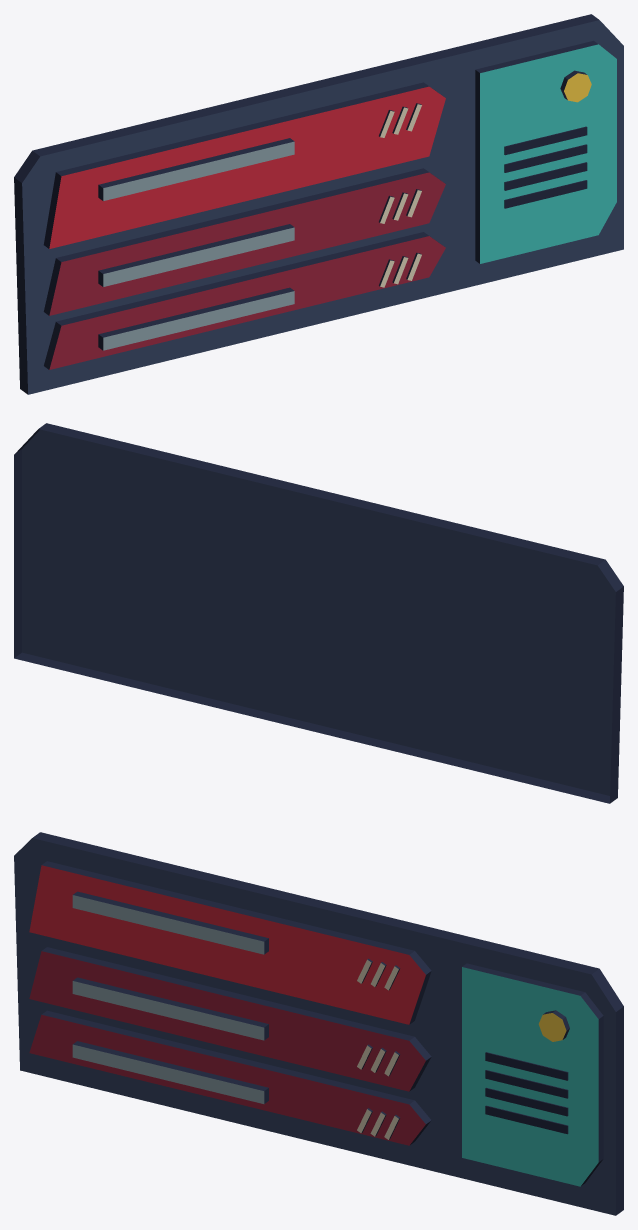
The model's file is ToolDrawers.gltf.
3 renders of one model, top to bottom at view 1: azimuth 30°, elevation 25°; view 2: azimuth 150°, elevation 25°; view 3: azimuth 330°, elevation 25°, orthographic.
Parts seen in each view (by area): view 1: ToolDrawers; view 2: ToolDrawers; view 3: ToolDrawers.
Part boxes in pixels (x1,y1,x2,y2): ToolDrawers: (14, 14, 623, 394); ToolDrawers: (14, 423, 623, 803); ToolDrawers: (14, 832, 623, 1215).
Bounding box in the file's own units: 1.98 × 0.74 × 0.11.
